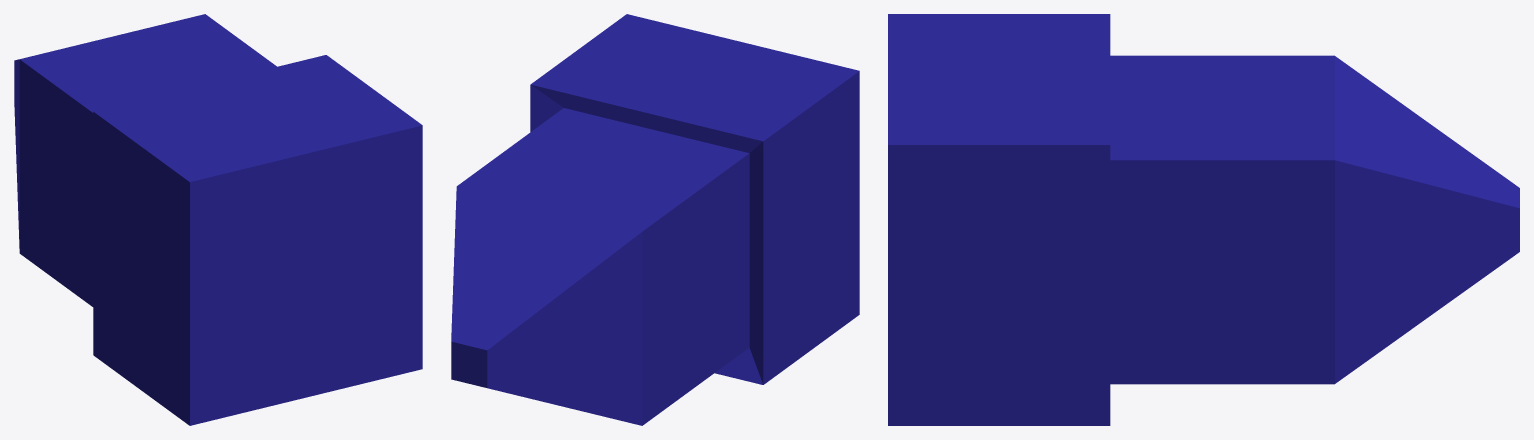
File: projectile.obj
3 views of the same model, side by side, from view 1: azimuth 30°, elevation 25°; view 2: azimuth 150°, elevation 25°; view 3: azimuth 270°, elevation 25° (orthographic). The views are drawn at different scales.
Parts seen in each view (by area): view 1: Cube; view 2: Cube; view 3: Cube.
Part boxes in pixels (left/top/right/bottom): Cube: left=14, top=14, right=422, bottom=425; Cube: left=451, top=14, right=859, bottom=425; Cube: left=888, top=14, right=1519, bottom=425.
Size of the model in its own units: 0.763 by 0.763 by 1.55.
